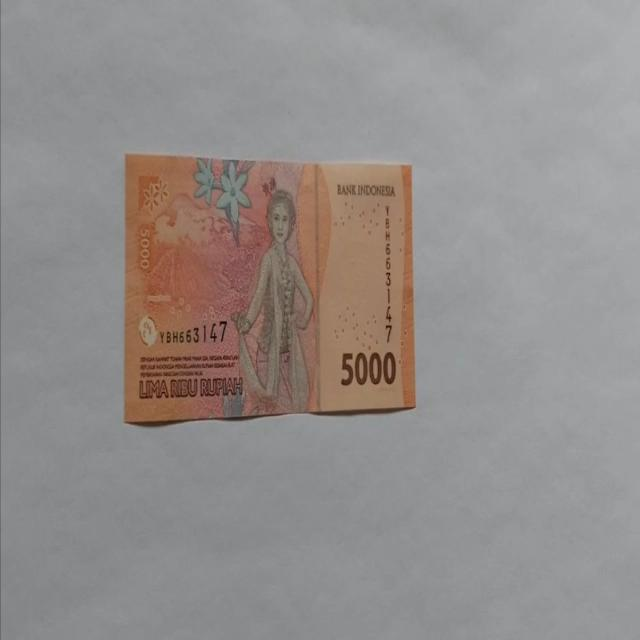lima ribu rupiah: (123, 152, 416, 424), (229, 188, 315, 416)
